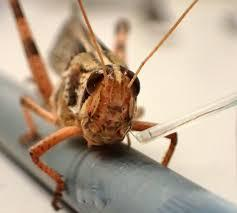insect: (1, 0, 205, 213)
